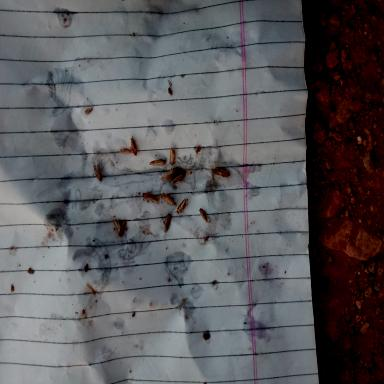pbw: (120, 135, 139, 158), (158, 168, 182, 184), (160, 191, 178, 207), (198, 208, 212, 226), (209, 168, 230, 180), (114, 219, 126, 237), (176, 198, 188, 214), (142, 192, 160, 202), (94, 160, 102, 182), (163, 214, 171, 233), (168, 147, 176, 166), (171, 174, 185, 184), (149, 158, 166, 166)
